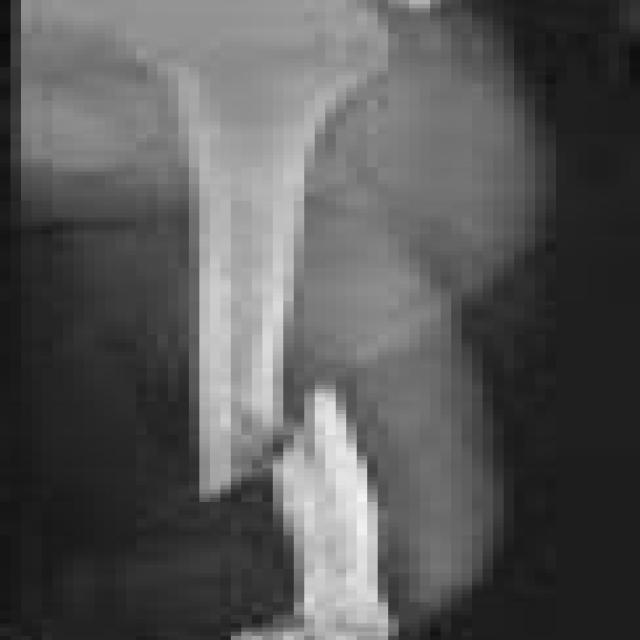Broken: (188, 50, 381, 494), (270, 399, 393, 628)
